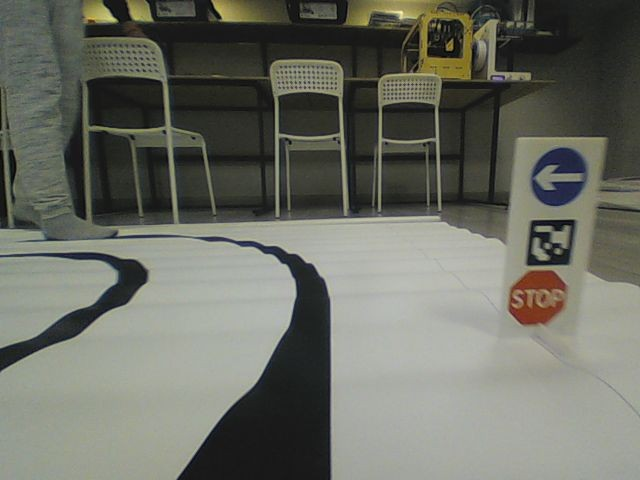Stop: (507, 269, 568, 327)
